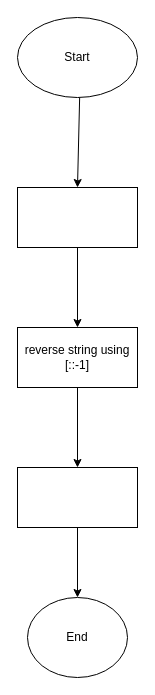
The diagram is 155 pixels wide and 695 high, and some of its shapes have lost their labels. The centre of each missing label's shape, as x and y in pixels:
"Print original string" goes at point 77,217.
"print reverse string" goes at point 77,497.
